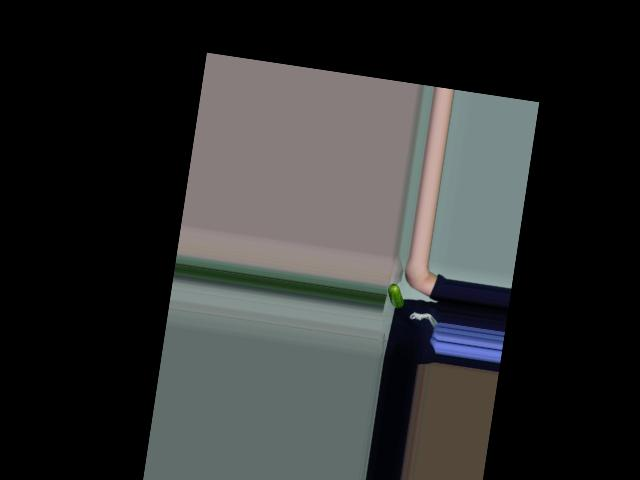cucumber: (385, 282, 406, 308)
